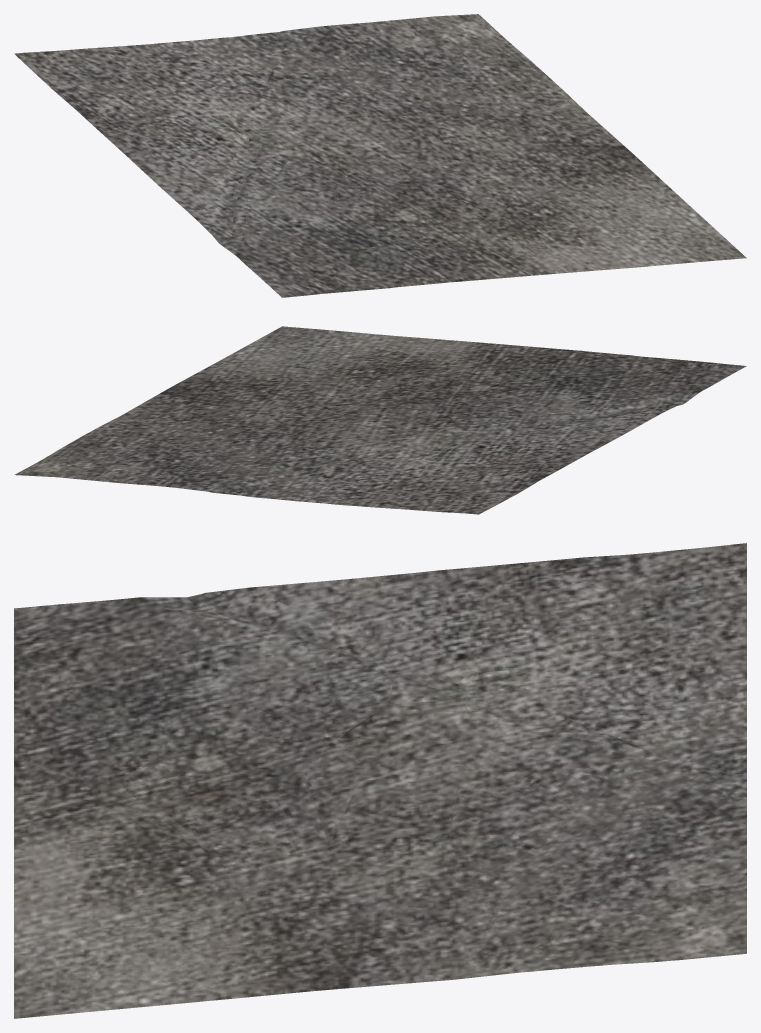
3 views of the same model, one above another, from view 1: azimuth 30°, elevation 25°; view 2: azimuth 150°, elevation 25°; view 3: azimuth 270°, elevation 25° (orthographic). The views are drawn at different scales.
Size of the model in its own units: 1.67 by 0.4185 by 1.67.
Materials: 2 (2 with a texture image).
